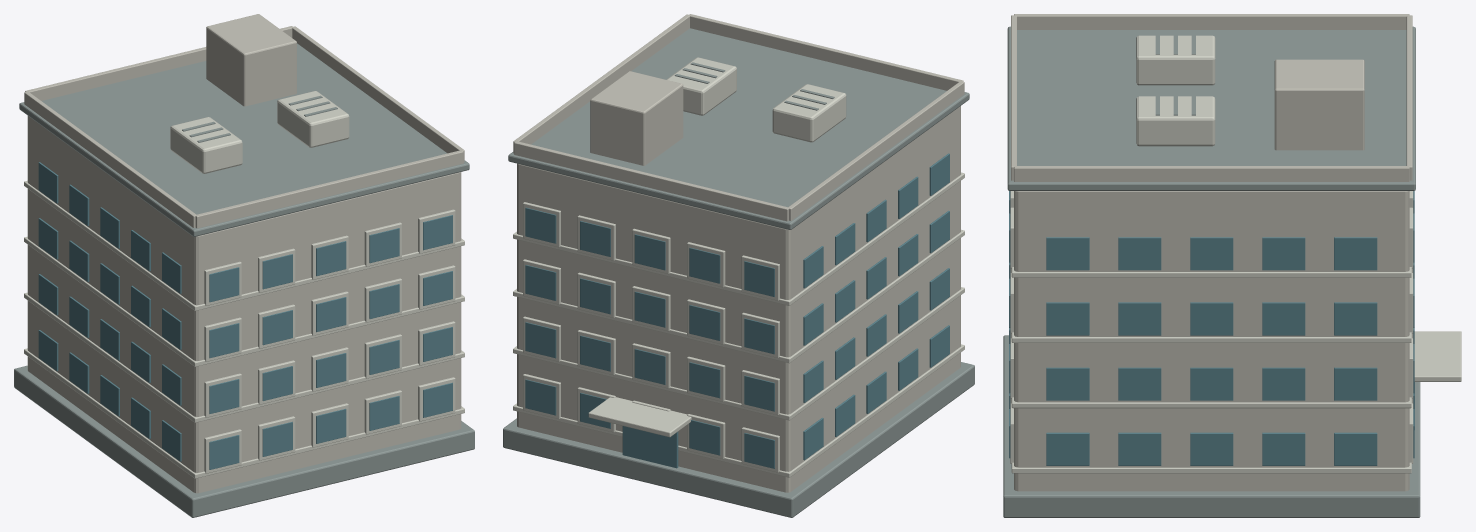
The model's file is building-office-high.glb.
The picture shows the model from 3 angles, left to right: view 1: azimuth 30°, elevation 25°; view 2: azimuth 150°, elevation 25°; view 3: azimuth 270°, elevation 25°; orthographic projection. The views are drawn at different scales.
Visible parts, largest first — view 1: core-Warm concrete-surfaces, core-Roof membrane-surfaces, core-Blue architectural glass-surfaces, core-Aluminum facade-surfaces; view 2: core-Warm concrete-surfaces, core-Roof membrane-surfaces, core-Blue architectural glass-surfaces, core-Aluminum facade-surfaces; view 3: core-Warm concrete-surfaces, core-Roof membrane-surfaces, core-Blue architectural glass-surfaces, core-Aluminum facade-surfaces.
Part boxes in pixels (x1,y1,x2,y2): core-Warm concrete-surfaces: (24,14,464,493); core-Roof membrane-surfaces: (14,43,474,517); core-Blue architectural glass-surfaces: (38,162,452,469); core-Aluminum facade-surfaces: (24,91,464,478); core-Warm concrete-surfaces: (513,14,964,492); core-Roof membrane-surfaces: (503,28,974,517); core-Blue architectural glass-surfaces: (525,153,949,468); core-Aluminum facade-surfaces: (513,57,964,477); core-Warm concrete-surfaces: (1011,14,1412,491); core-Roof membrane-surfaces: (1003,26,1420,517); core-Blue architectural glass-surfaces: (1009,191,1414,465); core-Aluminum facade-surfaces: (1010,35,1461,473).
Bounding box in the file's own units: 10.6 × 12.1 × 12.75.
